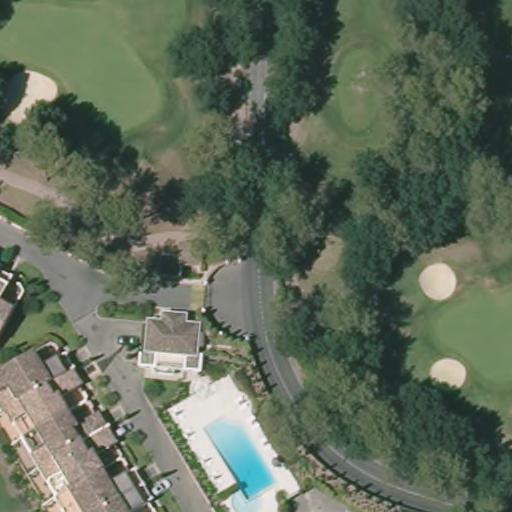pool: (199, 404, 283, 504)
